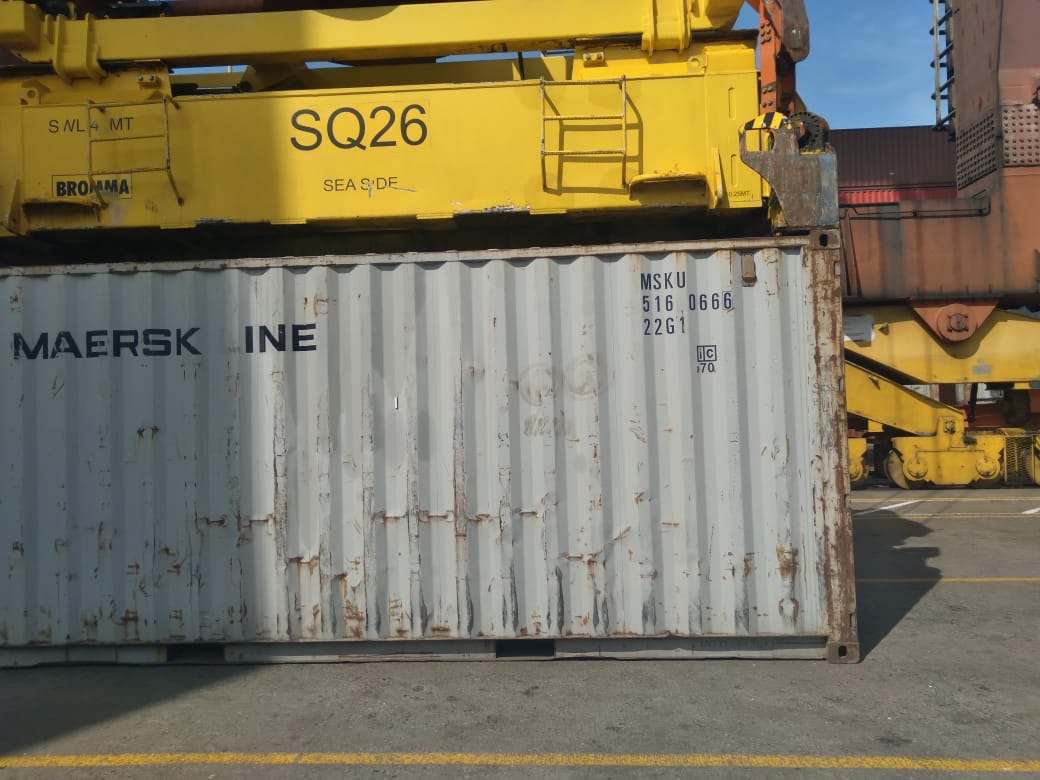dented: (148, 497, 378, 608), (362, 483, 572, 537)
